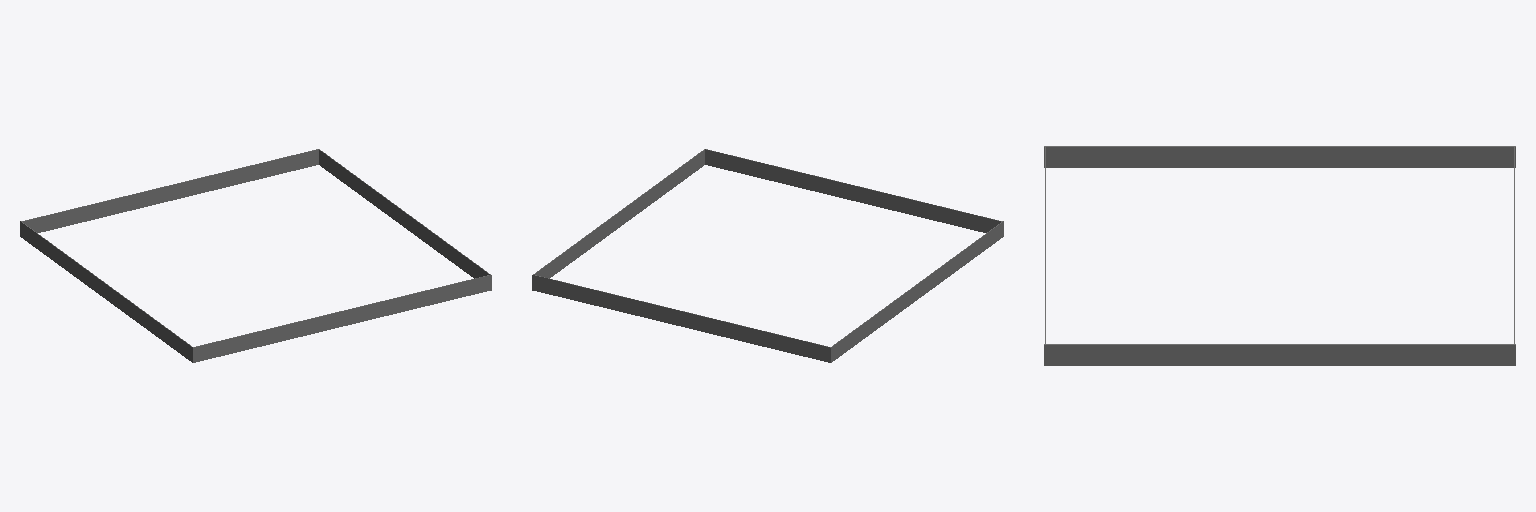
The robot description file, URDF, robot "field":
<?xml version="1.0" ?>
<robot name="field">

  <link name="board1">
    <visual>
      <geometry>
        <box size="4 0.01 0.2"/>
      </geometry>
      <material name="board_color">
        <color rgba="0.5 0.5 0.5 1"/>
      </material>
    </visual>
    <collision>
      <geometry>
        <box size="4 0.01 0.2"/>
      </geometry>
    </collision>
    <inertial>
      <mass value="1.0"/>
      <origin xyz="0 0 0"/>
      <inertia ixx="0.1" ixy="0.0" ixz="0.0" iyy="0.1" iyz="0.0" izz="0.1"/>
    </inertial>
  </link>
  
  <link name="board2">
    <visual>
      <geometry>
        <box size="4 0.01 0.2"/>
      </geometry>
      <material name="board_color">
        <color rgba="0.5 0.5 0.5 1"/>
      </material>
    </visual>
    <collision>
      <geometry>
        <box size="4 0.01 0.2"/>
      </geometry>
    </collision>
    <inertial>
      <mass value="1.0"/>
      <origin xyz="0 0 0"/>
      <inertia ixx="0.1" ixy="0.0" ixz="0.0" iyy="0.1" iyz="0.0" izz="0.1"/>
    </inertial>
  </link>
  
  <link name="board3">
    <visual>
      <geometry>
        <box size="0.01 4.02 0.2"/>
      </geometry>
      <material name="board_color">
        <color rgba="0.5 0.5 0.5 1"/>
      </material>
    </visual>
    <collision>
      <geometry>
        <box size="0.01 4.02 0.2"/>
      </geometry>
    </collision>
    <inertial>
      <mass value="1.0"/>
      <origin xyz="0 0 0"/>
      <inertia ixx="0.1" ixy="0.0" ixz="0.0" iyy="0.1" iyz="0.0" izz="0.1"/>
    </inertial>
  </link>
  
  <link name="board4">
    <visual>
      <geometry>
        <box size="0.01 4.02 0.2"/>
      </geometry>
      <material name="board_color">
        <color rgba="0.5 0.5 0.5 1"/>
      </material>
    </visual>
    <collision>
      <geometry>
        <box size="0.01 4.02 0.2"/>
      </geometry>
    </collision>
    <inertial>
      <mass value="1.0"/>
      <origin xyz="0 0 0"/>
      <inertia ixx="0.1" ixy="0.0" ixz="0.0" iyy="0.1" iyz="0.0" izz="0.1"/>
    </inertial>
  </link>
  
  <joint name="joint_board1_board2" type="fixed">
    <parent link="board1"/>
    <child link="board2"/>
    <origin xyz="0 4 0"/>
    <axis xyz="0 0 0"/>
  </joint>

  <joint name="joint_board1_board4" type="fixed">
    <parent link="board1"/>
    <child link="board4"/>
    <origin xyz="2 2 0"/>
    <axis xyz="0 0 0"/>
  </joint>

  <joint name="joint_board1_board3" type="fixed">
    <parent link="board1"/>
    <child link="board3"/>
    <origin xyz="-2 2 0"/>
    <axis xyz="0 0 0"/>
  </joint>

</robot>

--- Render facts (derived) ---
3 views of the same robot in one strip: view 1: azimuth 30°, elevation 25°; view 2: azimuth 150°, elevation 25°; view 3: azimuth 270°, elevation 25° (orthographic).
Model field with 4 links and 3 joints (3 fixed), rooted at board1, posed all joints at 0.
Links seen in each view (by area): view 1: board1, board2, board3, board4; view 2: board2, board1, board3, board4; view 3: board4, board3.
Link boxes in pixels (box(x1,y1,x2,y2)): board1: box(193, 275, 490, 362); board2: box(22, 149, 318, 232); board3: box(20, 221, 193, 362); board4: box(319, 149, 491, 290); board2: box(533, 275, 830, 362); board1: box(705, 149, 1001, 232); board3: box(830, 221, 1003, 362); board4: box(532, 149, 704, 290); board4: box(1044, 344, 1515, 365); board3: box(1044, 146, 1515, 167).
Bounding box of the posed robot: 4.01 × 4.02 × 0.2 m (x, y, z).
Geometry: primitives only (box / cylinder / sphere), no mesh files.